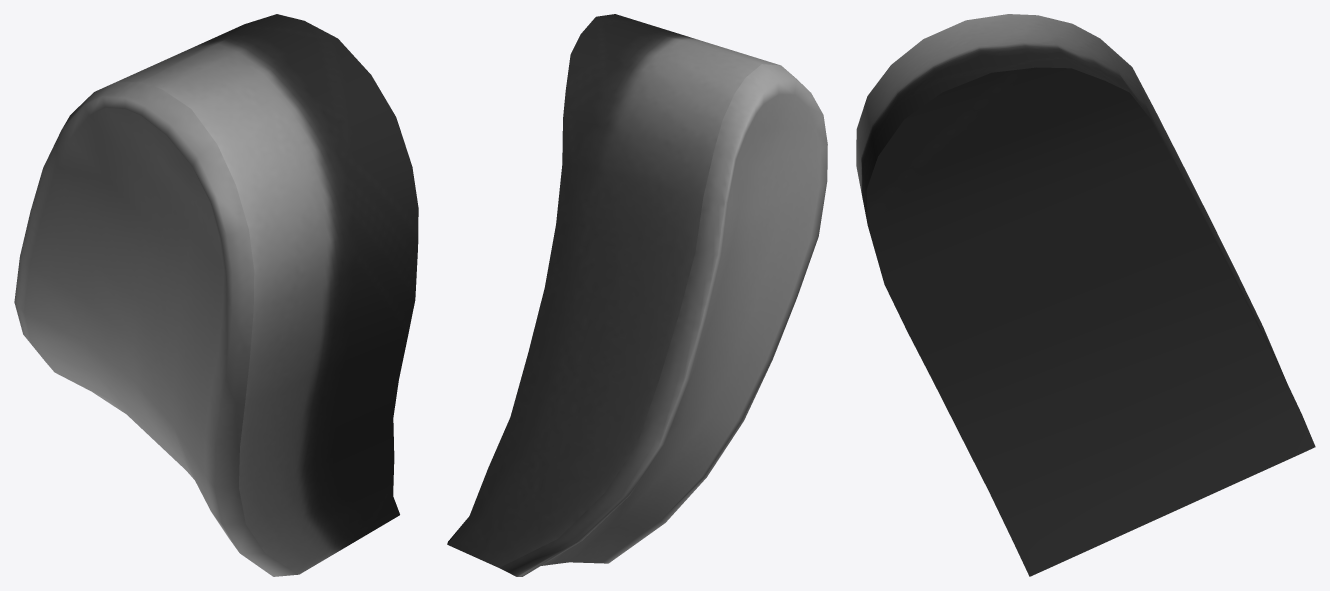
The model's file is oculus_quest2_controller_right_grip.obj.
3 renders of one model, left to right at view 1: azimuth 30°, elevation 25°; view 2: azimuth 150°, elevation 25°; view 3: azimuth 270°, elevation 25°, orthographic. The views are drawn at different scales.
Visible parts, largest first — view 1: oculus_quest2_controller_right_grip; view 2: oculus_quest2_controller_right_grip; view 3: oculus_quest2_controller_right_grip.
Part boxes in pixels (left/top/right/bottom): oculus_quest2_controller_right_grip: left=14, top=14, right=418, bottom=576; oculus_quest2_controller_right_grip: left=447, top=14, right=827, bottom=576; oculus_quest2_controller_right_grip: left=856, top=14, right=1315, bottom=576.
Bounding box in the file's own units: 0.0146 × 0.026 × 0.0216.
1 material, 1 textured.
